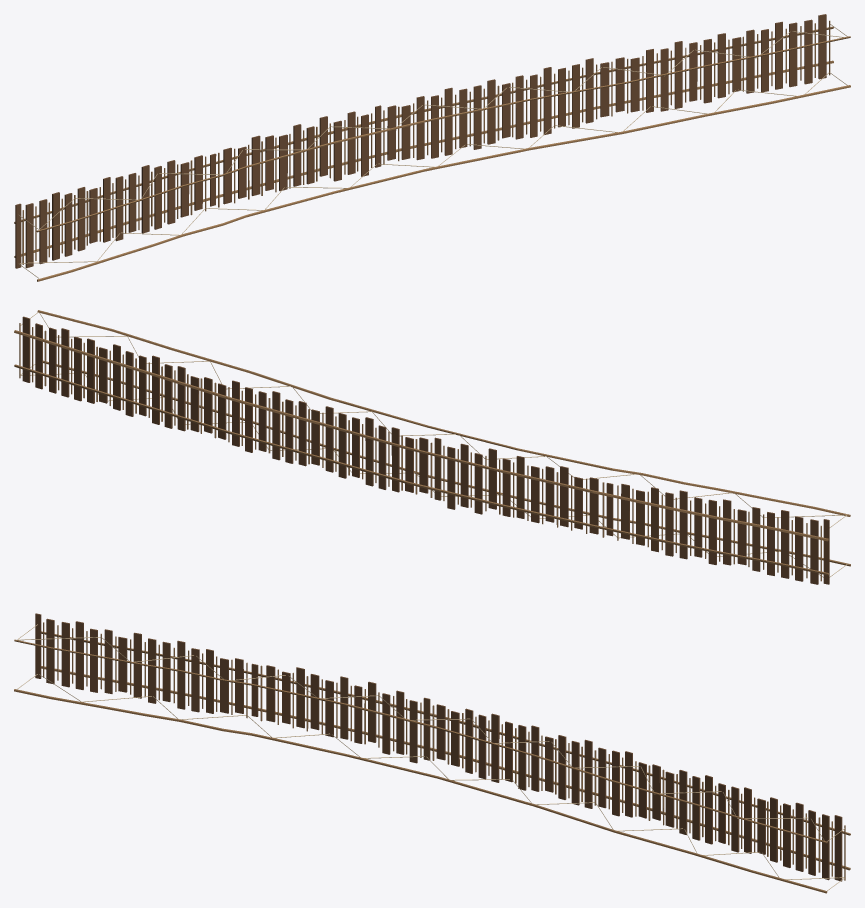
File: Bridge_26m_01.fbx
The picture shows the model from 3 angles, top to bottom: view 1: azimuth 30°, elevation 25°; view 2: azimuth 150°, elevation 25°; view 3: azimuth 330°, elevation 25°; orthographic projection.
Visible parts, largest first — view 1: Bridge 26 M 2; view 2: Bridge 26 M 2; view 3: Bridge 26 M 2.
Part boxes in pixels (x1,y1,x2,y2): Bridge 26 M 2: (14, 14, 850, 281); Bridge 26 M 2: (14, 310, 850, 584); Bridge 26 M 2: (14, 613, 850, 893).
Size of the model in its own units: 2595 by 209 by 227.
